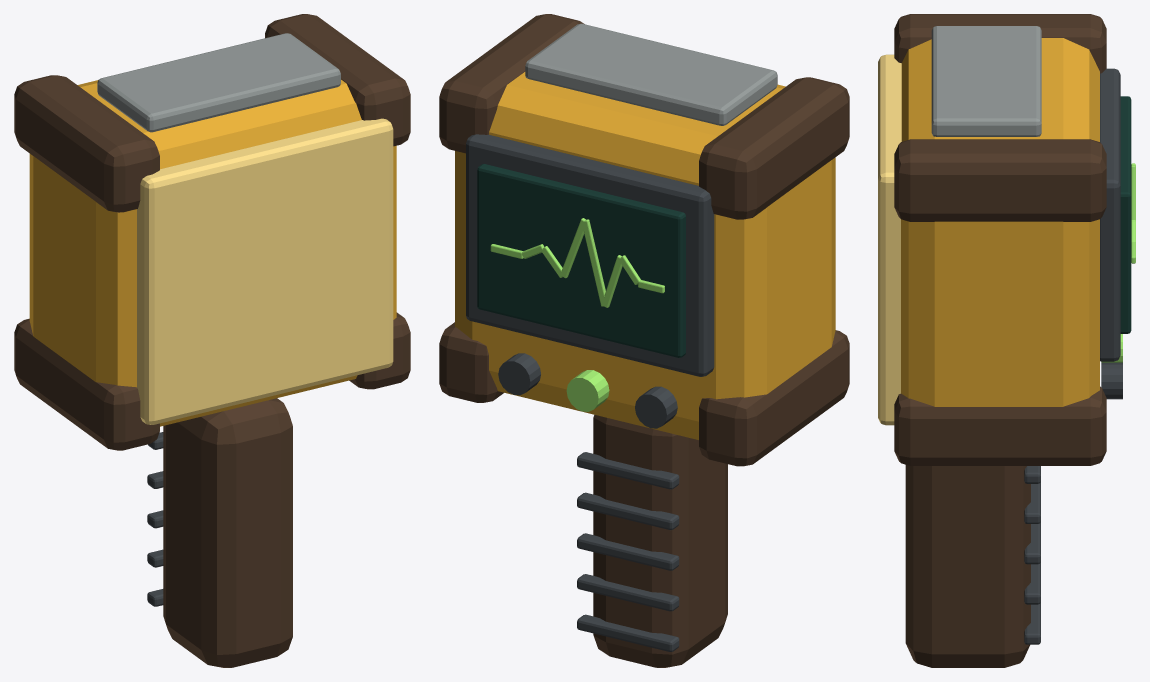
File: Detector.fbx
3 renders of one model, left to right at view 1: azimuth 30°, elevation 25°; view 2: azimuth 150°, elevation 25°; view 3: azimuth 270°, elevation 25°, orthographic. The views are drawn at different scales.
Parts seen in each view (by area): view 1: Detector_Mesh; view 2: Detector_Mesh; view 3: Detector_Mesh.
Boxes of the visible parts, <box> form: Detector_Mesh: <box>14,14,410,667</box>; Detector_Mesh: <box>439,14,849,667</box>; Detector_Mesh: <box>878,14,1135,667</box>.
Size of the model in its own units: 0.236 by 0.421 by 0.1685.
